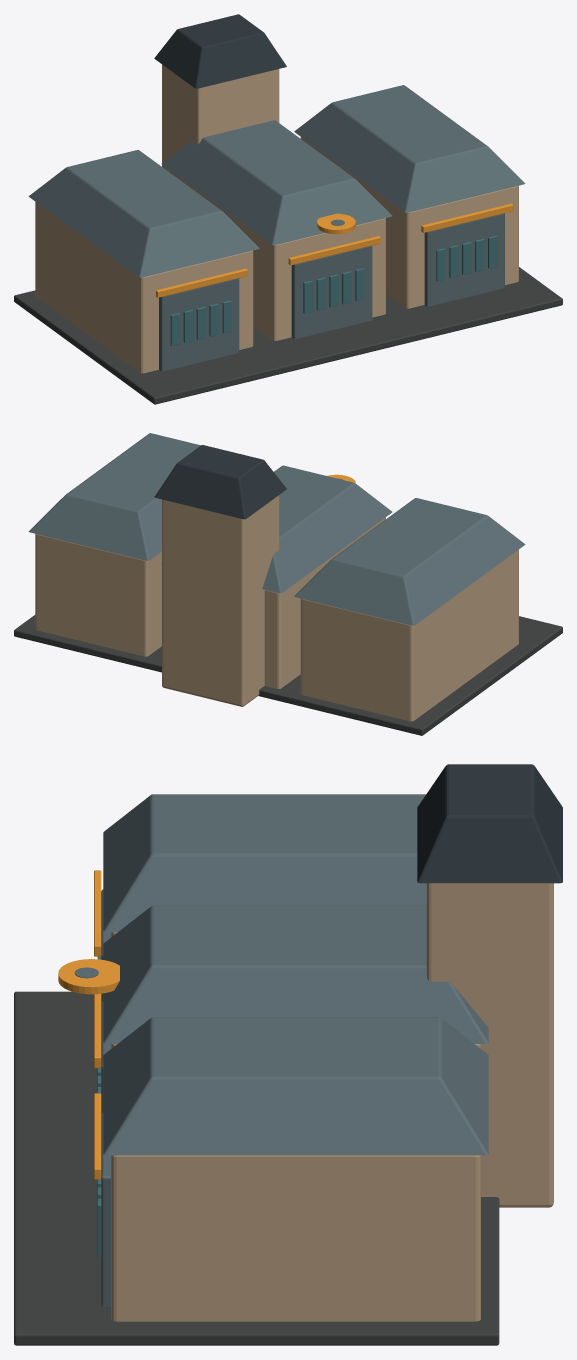
File: paris-vehicles.glb
The picture shows the model from 3 angles, top to bottom: view 1: azimuth 30°, elevation 25°; view 2: azimuth 150°, elevation 25°; view 3: azimuth 270°, elevation 25°; orthographic projection. The views are drawn at different scales.
Visible parts, largest first — view 1: Optimized Paris landmark; view 2: Optimized Paris landmark; view 3: Optimized Paris landmark.
Boxes of the visible parts, <box> form: Optimized Paris landmark: <box>14,14,562,404</box>; Optimized Paris landmark: <box>14,433,562,735</box>; Optimized Paris landmark: <box>14,764,562,1345</box>.
Bounding box in the file's own units: 13.4 × 7 × 9.05.
